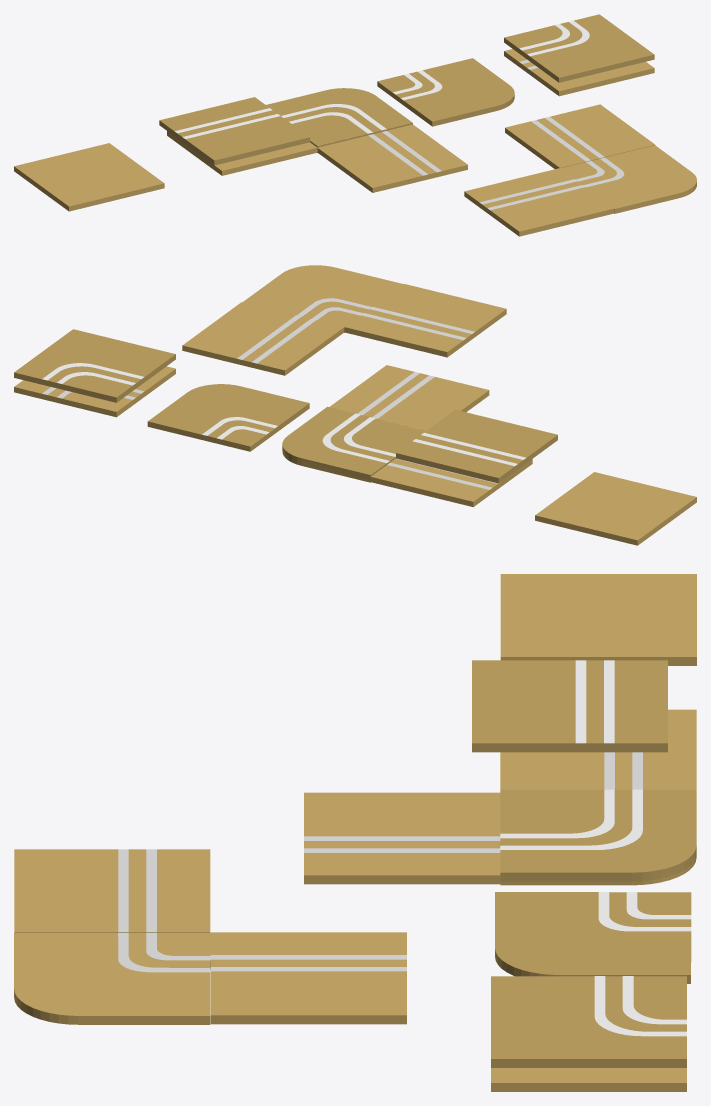
Rendered from tile_mat_name_corner.fbx.
3 views of the same model, one above another, from view 1: azimuth 30°, elevation 25°; view 2: azimuth 150°, elevation 25°; view 3: azimuth 270°, elevation 25° (orthographic). The views are drawn at different scales.
Parts seen in each view (by area): view 1: Plane.004, Plane.011, Plane.003, Plane.001, Plane.007, Plane.005, Plane.006, Plane.009, Plane.002, Plane.008, Plane.010; view 2: Plane.006, Plane.007, Plane.001, Plane.011, Plane.004, Plane.005, Plane.002, Plane.003, Plane.009, Plane.010, Plane.008, Plane.012; view 3: Plane.006, Plane.003, Plane.001, Plane.004, Plane.002, Plane.009, Plane.011, Plane.005, Plane.007, Plane.010, Plane.008, Plane.012.
Part boxes in pixels (bbox=[...]): Plane.004: bbox=[504, 14, 654, 82]; Plane.011: bbox=[14, 143, 164, 211]; Plane.003: bbox=[317, 124, 467, 192]; Plane.001: bbox=[159, 97, 309, 165]; Plane.007: bbox=[464, 168, 614, 236]; Plane.005: bbox=[377, 58, 514, 126]; Plane.006: bbox=[505, 104, 654, 168]; Plane.009: bbox=[560, 145, 696, 213]; Plane.002: bbox=[266, 88, 412, 147]; Plane.008: bbox=[504, 49, 654, 96]; Plane.010: bbox=[167, 131, 317, 175]; Plane.006: bbox=[182, 302, 344, 375]; Plane.007: bbox=[344, 284, 506, 357]; Plane.001: bbox=[396, 409, 557, 483]; Plane.011: bbox=[535, 472, 696, 545]; Plane.004: bbox=[14, 329, 175, 402]; Plane.005: bbox=[147, 384, 309, 451]; Plane.002: bbox=[282, 406, 426, 480]; Plane.003: bbox=[329, 365, 489, 430]; Plane.009: bbox=[243, 265, 402, 332]; Plane.010: bbox=[370, 458, 532, 507]; Plane.008: bbox=[14, 366, 175, 417]; Plane.012: bbox=[282, 449, 370, 482]; Plane.006: bbox=[210, 932, 406, 1024]; Plane.003: bbox=[304, 792, 500, 884]; Plane.001: bbox=[472, 660, 667, 752]; Plane.004: bbox=[491, 976, 686, 1067]; Plane.002: bbox=[500, 789, 696, 881]; Plane.009: bbox=[14, 933, 210, 1024]; Plane.011: bbox=[500, 574, 696, 665]; Plane.005: bbox=[495, 892, 691, 983]; Plane.007: bbox=[14, 849, 210, 932]; Plane.010: bbox=[500, 709, 696, 789]; Plane.008: bbox=[491, 1068, 686, 1091]; Plane.012: bbox=[500, 854, 696, 885].
Size of the model in its own units: 611 by 25.62 by 348.
